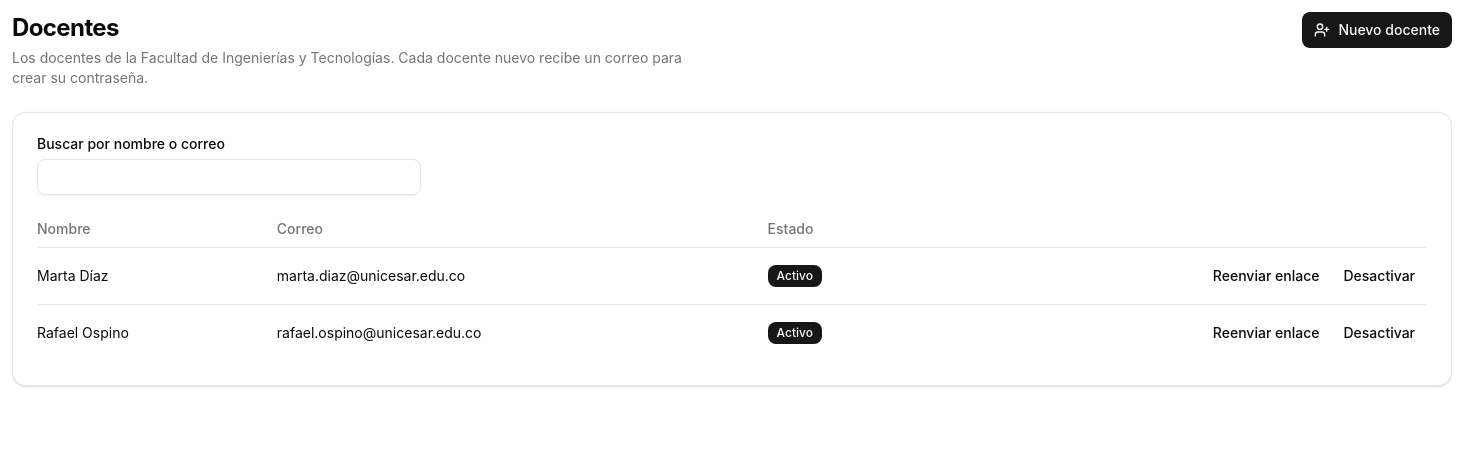
TeachersPage › resends the password link
This screenshot has width=1464, height=464.
Click the button with aria-label "Reenviar enlace a Rafael Ospino" at (1266, 333), box [1201,317,1331,349]
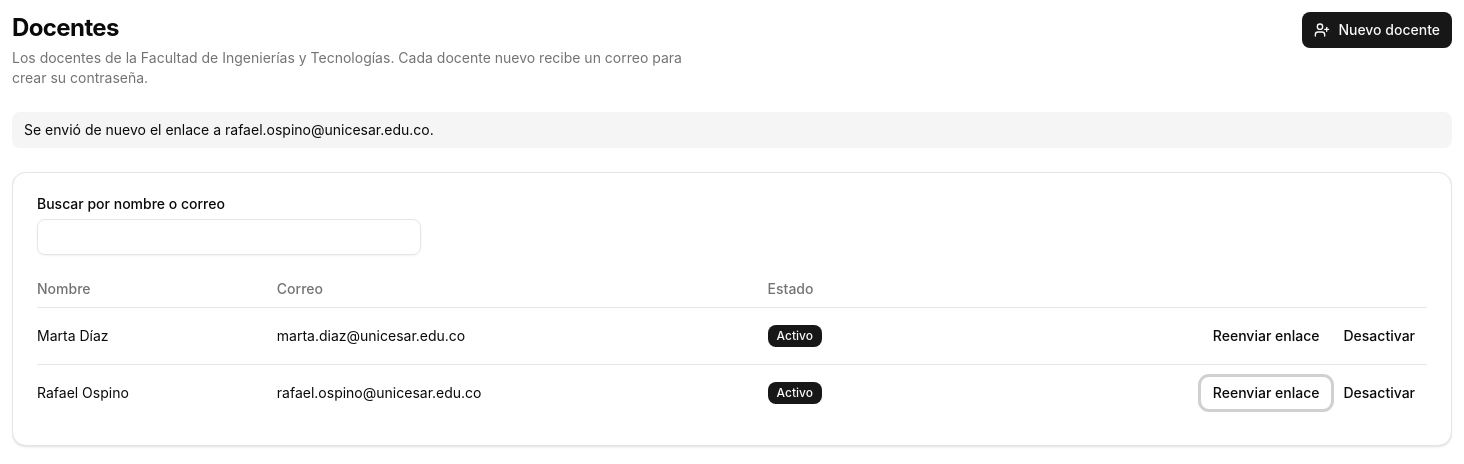
Check: the message reads "Se envió de nuevo el enlace a rafael.ospino@unicesar.edu.co.", box [24,121,434,138]
